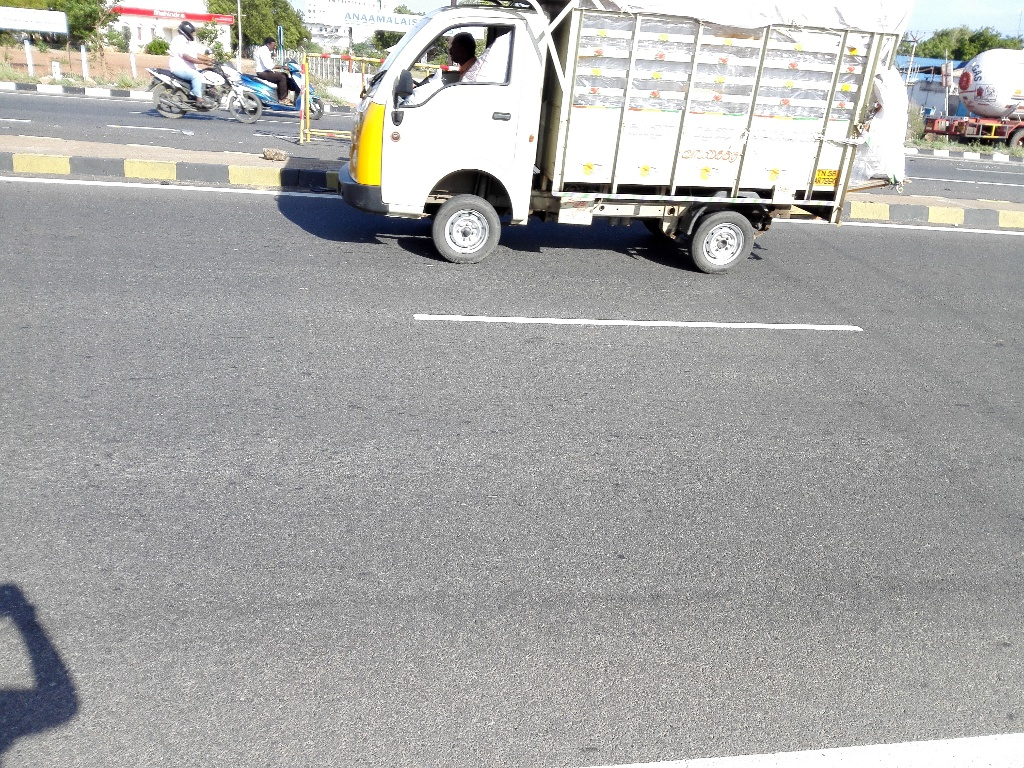biker: (142, 1, 256, 126), (251, 9, 325, 126)
helmet: (172, 13, 204, 47)
nohelmet: (260, 28, 290, 61)
